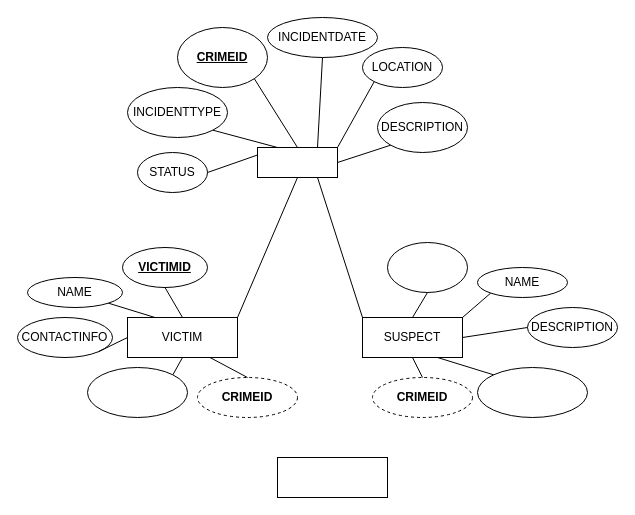
The diagram is 635 pixels wide and 515 high, and some of its shapes have lost their labels. Each missing label, with the box of its shape:
CRIME: (256, 146, 338, 178)
CRIMINALHISTORY: (476, 366, 588, 418)
DATABASE: CMS SHIVAM SINGH: (276, 456, 388, 498)
INJURIES: (86, 366, 188, 418)
SUSPECTID: (386, 242, 468, 292)
